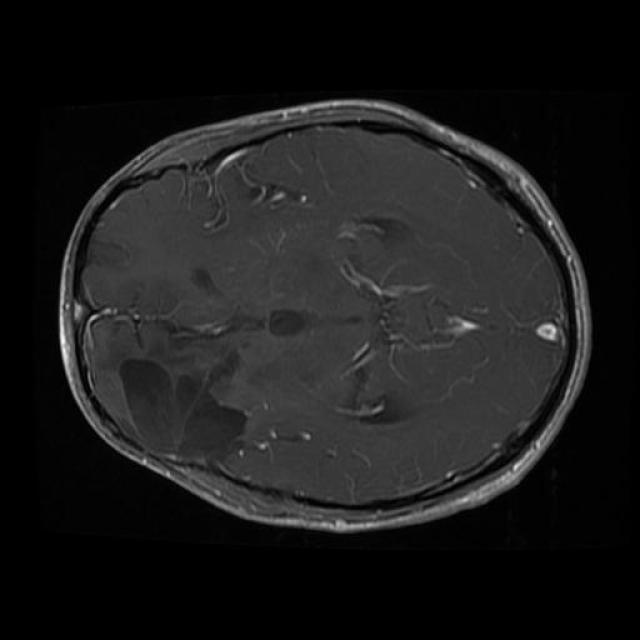Glioma: (120, 352, 245, 458)
